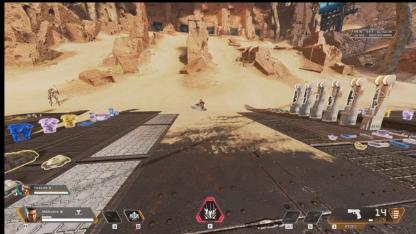Target: (47, 86, 61, 106), (193, 97, 207, 111)
